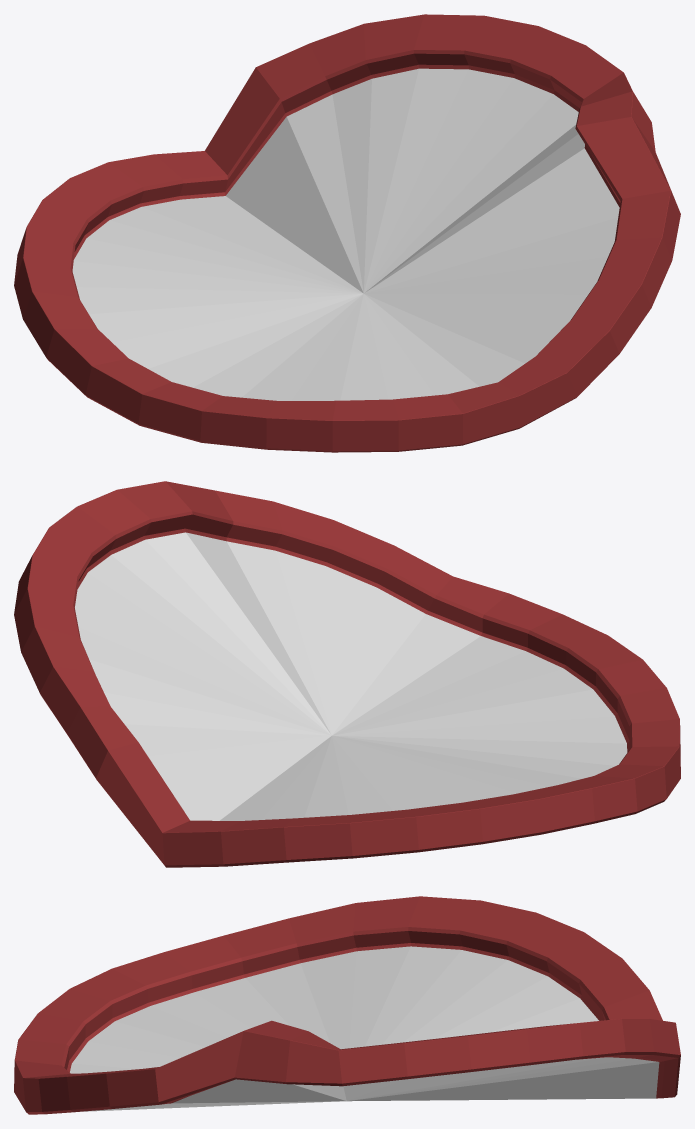
File: 破损标识 (2).fbx
3 renders of one model, top to bottom at view 1: azimuth 30°, elevation 25°; view 2: azimuth 150°, elevation 25°; view 3: azimuth 270°, elevation 25°, orthographic.
Visible parts, largest first — view 1: Cylinder.023; view 2: Cylinder.023; view 3: Cylinder.023.
Boxes of the visible parts, x1,y1,x2,y2 form: Cylinder.023: (14,14,680,452); Cylinder.023: (14,481,680,867); Cylinder.023: (14,896,680,1114).
Bounding box in the file's own units: 1.98 × 0.6173 × 1.98.
